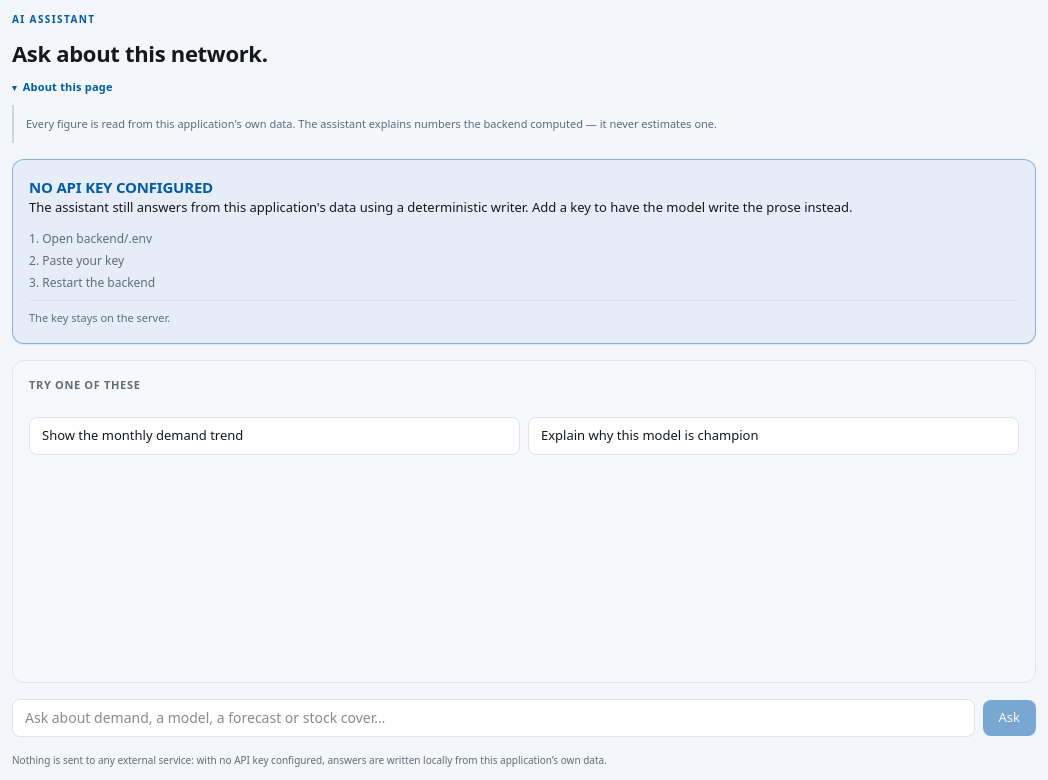
Test case: AI Assistant › offers suggested questions and asks one
Step 1. Click the button "Explain why this model is champion" → (650, 435), box [528,417,1019,455]
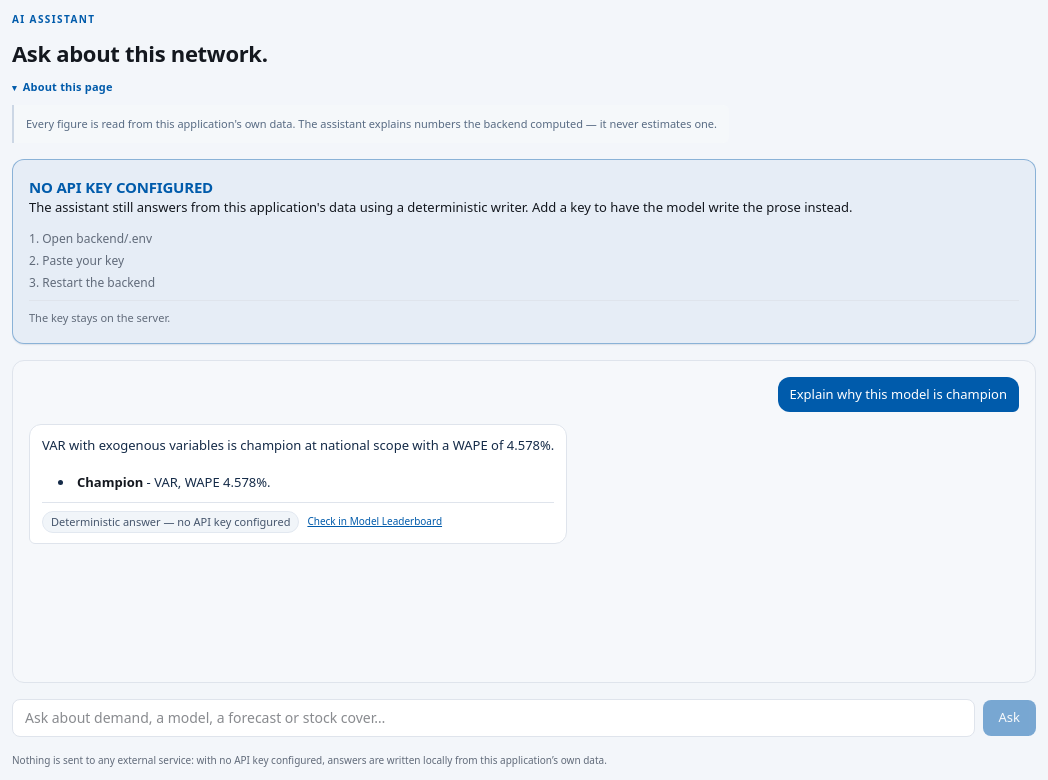
Result: the text "champion at national scope with a WAPE of 4.578%" is shown at [42,436,554,454]
